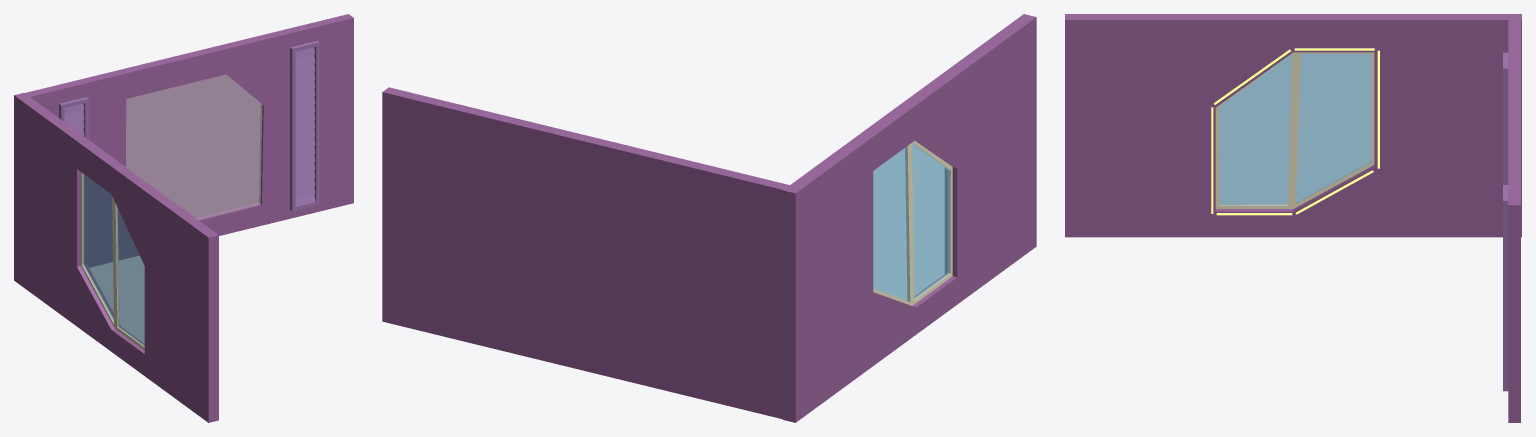
The model's file is walls_tier18.fbx.
3 views of the same model, side by side, from view 1: azimuth 30°, elevation 25°; view 2: azimuth 150°, elevation 25°; view 3: azimuth 270°, elevation 25° (orthographic). The views are drawn at different scales.
Parts seen in each view (by area): view 1: Cube.007, Cube, Plane, Cube.003, Cube.004, Cube.001, Cube.002; view 2: Cube.007, Cube, Cube.003, Cube.001; view 3: Cube, Cube.003, Cube.007, Cube.001, Cube.004, Cube.002.
Boxes of the visible parts, x1=… form: Cube.007: x1=25, y1=14, x2=353, y2=267; Cube: x1=14, y1=93, x2=218, y2=422; Plane: x1=126, y1=74, x2=262, y2=219; Cube.003: x1=82, y1=173, x2=144, y2=346; Cube.004: x1=290, y1=40, x2=319, y2=211; Cube.001: x1=80, y1=172, x2=144, y2=350; Cube.002: x1=59, y1=97, x2=88, y2=260; Cube.007: x1=382, y1=87, x2=789, y2=419; Cube: x1=783, y1=14, x2=1036, y2=422; Cube.003: x1=873, y1=143, x2=949, y2=301; Cube.001: x1=873, y1=140, x2=952, y2=305; Cube: x1=1065, y1=14, x2=1521, y2=237; Cube.003: x1=1219, y1=53, x2=1371, y2=204; Cube.007: x1=1508, y1=20, x2=1520, y2=422; Cube.001: x1=1215, y1=52, x2=1374, y2=208; Cube.004: x1=1503, y1=185, x2=1508, y2=391; Cube.002: x1=1503, y1=52, x2=1508, y2=184.
Bounding box in the file's own units: 653 × 346 × 658.
